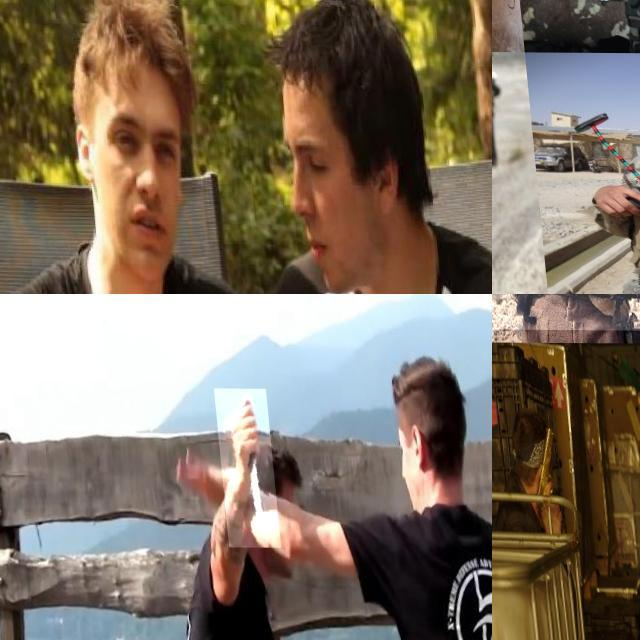-: (211, 388, 275, 547)
gun-knife-thesis - v11 Yolov5 augmented: (562, 111, 640, 294), (492, 294, 640, 363), (492, 0, 560, 118), (492, 0, 575, 93), (492, 220, 594, 294), (544, 0, 640, 66), (516, 424, 562, 546)
